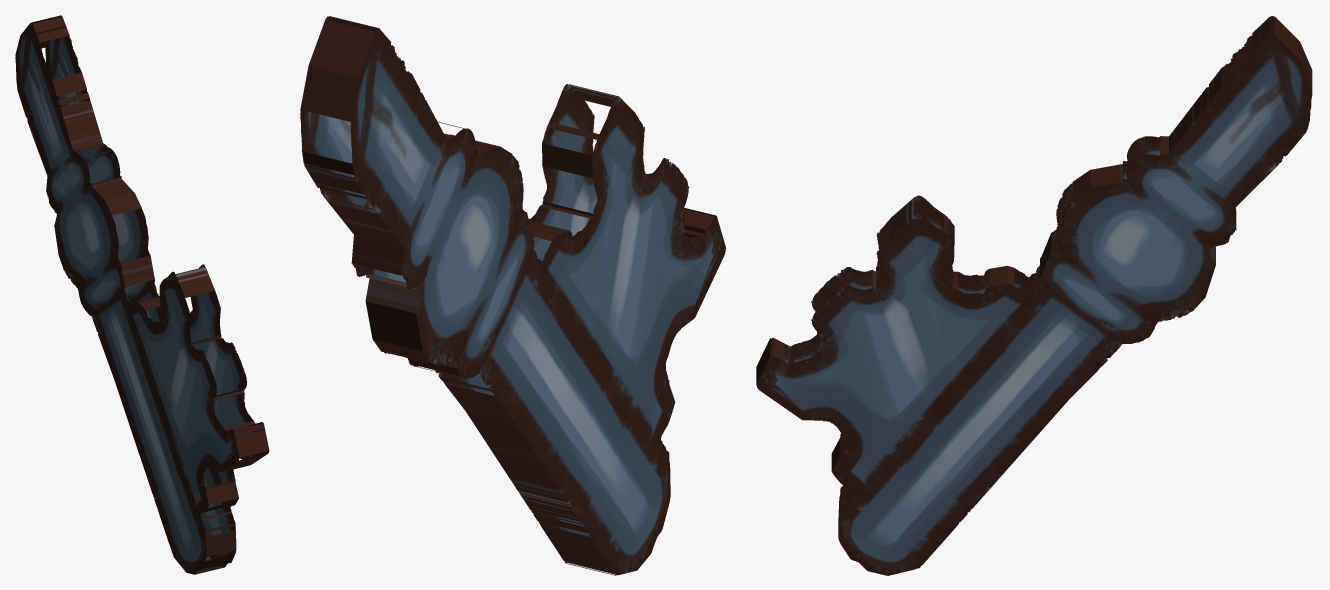
Rendered from keyBottomHalf.fbx.
3 views of the same model, side by side, from view 1: azimuth 30°, elevation 25°; view 2: azimuth 150°, elevation 25°; view 3: azimuth 270°, elevation 25° (orthographic). The views are drawn at different scales.
Parts seen in each view (by area): view 1: keyBottomHalf; view 2: keyBottomHalf; view 3: keyBottomHalf.
Boxes of the visible parts, bbox=[...] form: keyBottomHalf: bbox=[15, 15, 269, 574]; keyBottomHalf: bbox=[300, 16, 725, 575]; keyBottomHalf: bbox=[756, 16, 1312, 575].
Bounding box in the file's own units: 6.04 × 84.26 × 78.71.
